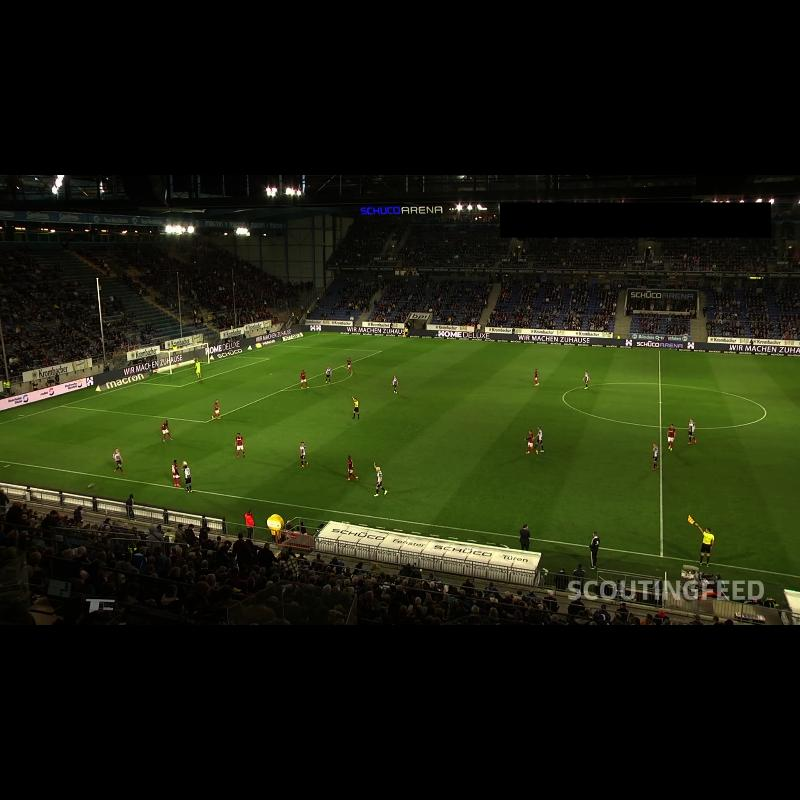cross_recipient_zone: (62, 345, 380, 422)
crossing_player_zone: (0, 406, 300, 491), (279, 334, 470, 355)
pitch: (0, 334, 800, 578)
